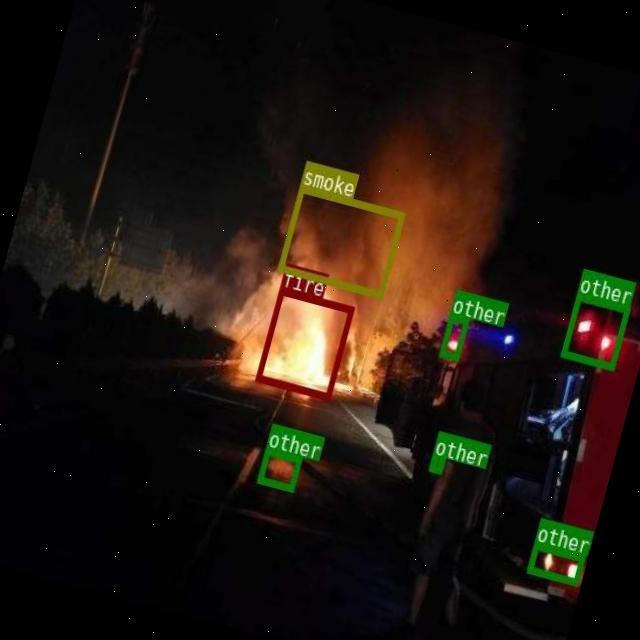fire: (254, 286, 353, 399)
smoke: (277, 184, 404, 296)
